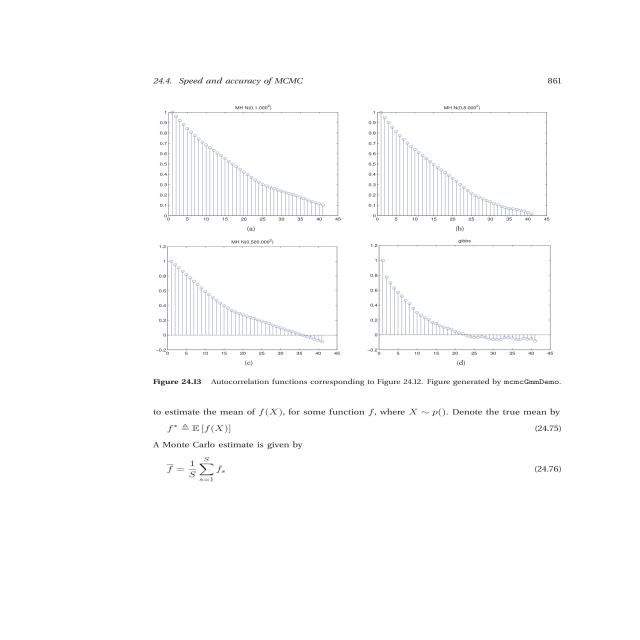diagram: (57, 94, 640, 398)
